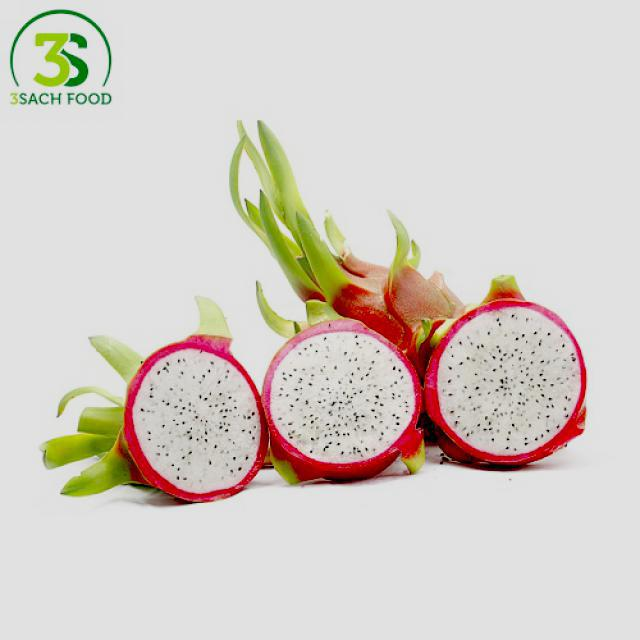trang: (227, 115, 469, 344), (45, 294, 265, 512), (254, 280, 424, 493), (430, 272, 590, 472)
